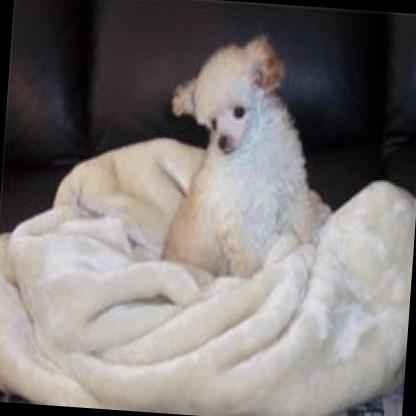toy_poodle: (160, 24, 312, 273)
